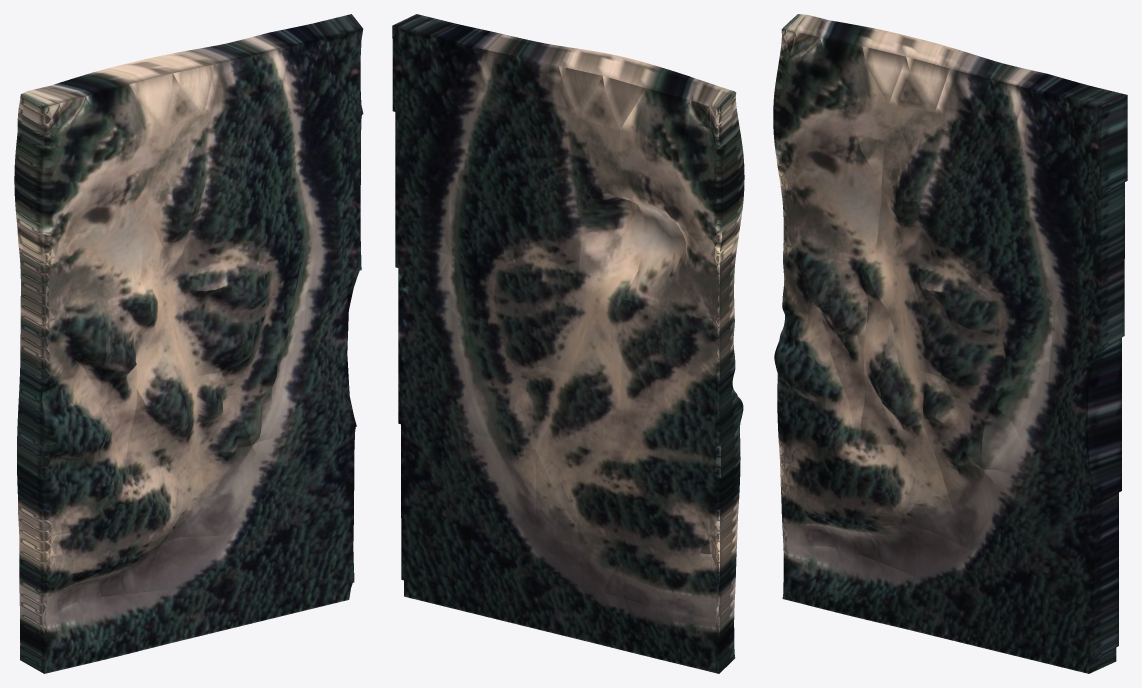
File: map1.obj
3 views of the same model, side by side, from view 1: azimuth 30°, elevation 25°; view 2: azimuth 150°, elevation 25°; view 3: azimuth 330°, elevation 25° (orthographic).
Parts seen in each view (by area): view 1: EXPORT_GOOGLE_SAT_WM.001; view 2: EXPORT_GOOGLE_SAT_WM.001; view 3: EXPORT_GOOGLE_SAT_WM.001.
Boxes of the visible parts, box(x1,y1,x2,y2) form: EXPORT_GOOGLE_SAT_WM.001: box(14, 14, 363, 673); EXPORT_GOOGLE_SAT_WM.001: box(392, 14, 744, 673); EXPORT_GOOGLE_SAT_WM.001: box(773, 14, 1127, 673).
Bounding box in the file's own units: 208 × 341 × 45.97.
Materials: 1 (1 with a texture image).
